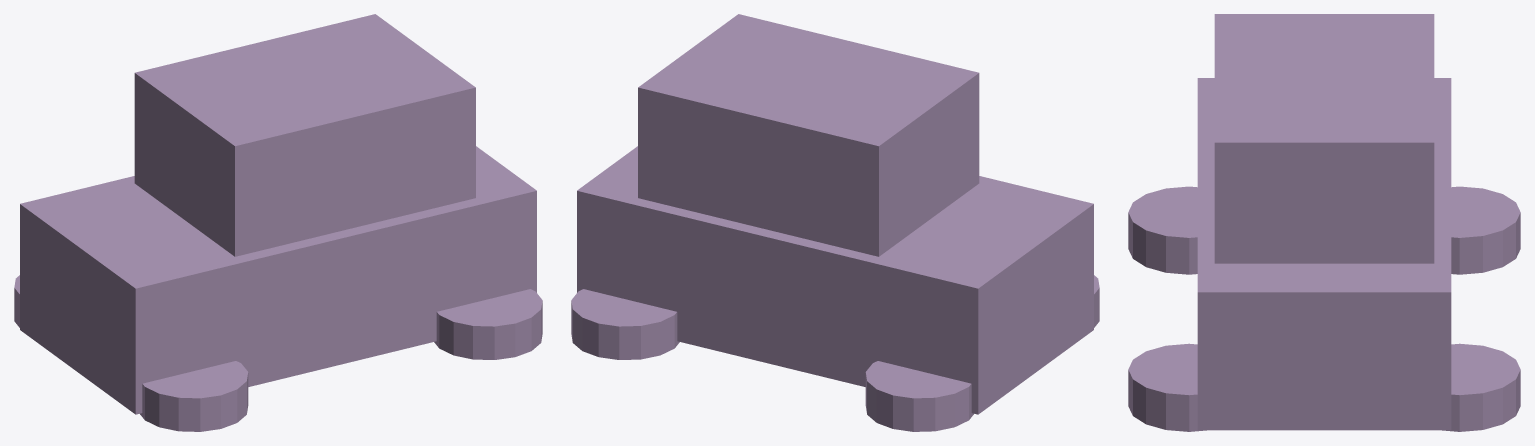
File: tech_133.glb
The picture shows the model from 3 angles, left to right: view 1: azimuth 30°, elevation 25°; view 2: azimuth 150°, elevation 25°; view 3: azimuth 270°, elevation 25°; orthographic projection. The views are drawn at different scales.
Visible parts, largest first — view 1: world; view 2: world; view 3: world.
Part boxes in pixels (<box>): world: <box>14,14,542,431</box>; world: <box>571,14,1099,431</box>; world: <box>1128,14,1520,431</box>.
Bounding box in the file's own units: 1.5 × 0.86 × 1.16.
